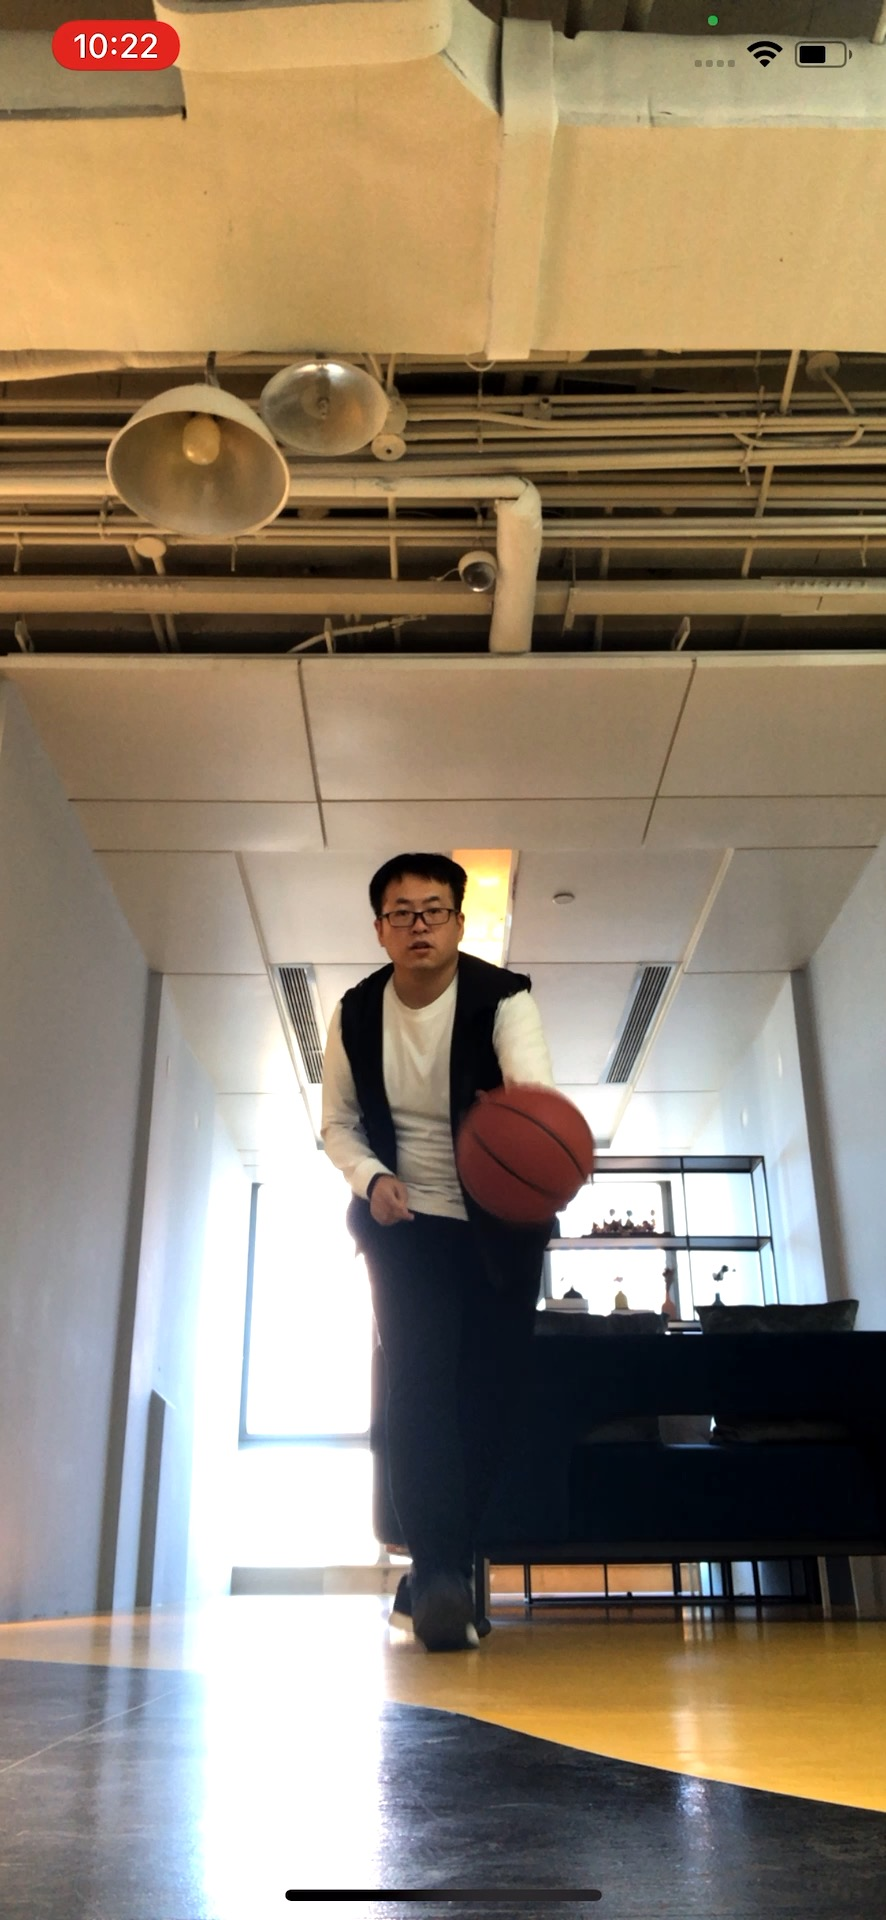ball: (459, 1084, 592, 1223)
